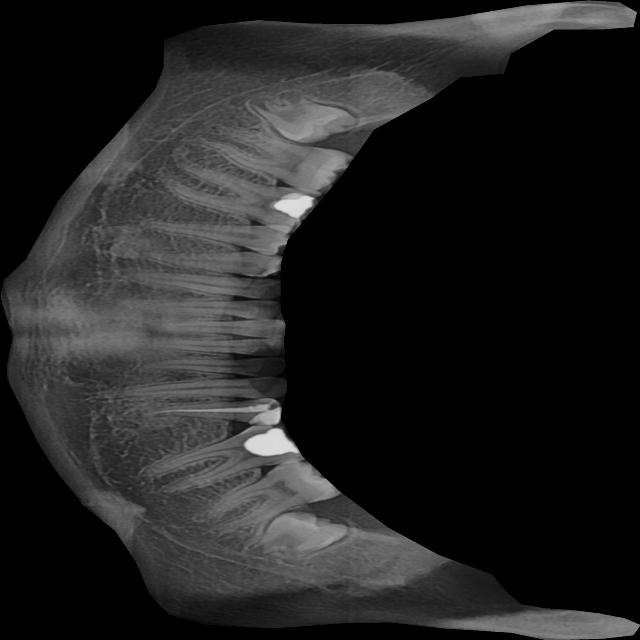mandibula: (0, 0, 640, 640)
